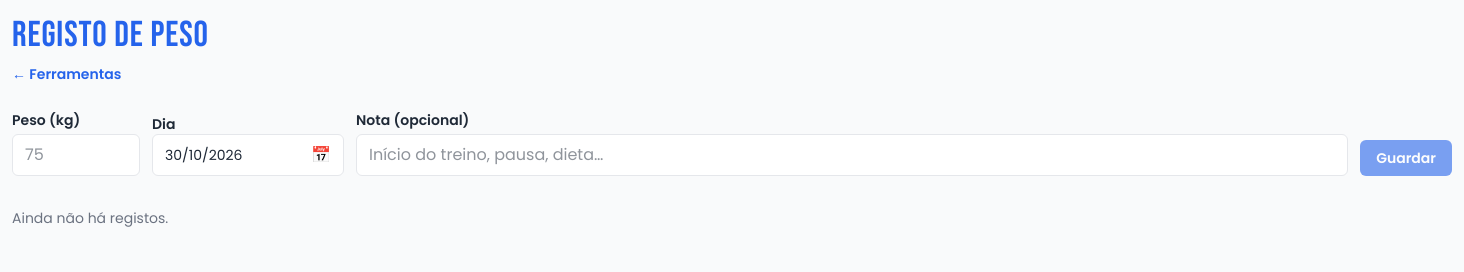
Test: WeightLog › refuses an implausible weight
Type "9" into the field labelled "Peso (kg)" at (76, 155), box [12, 134, 140, 176]
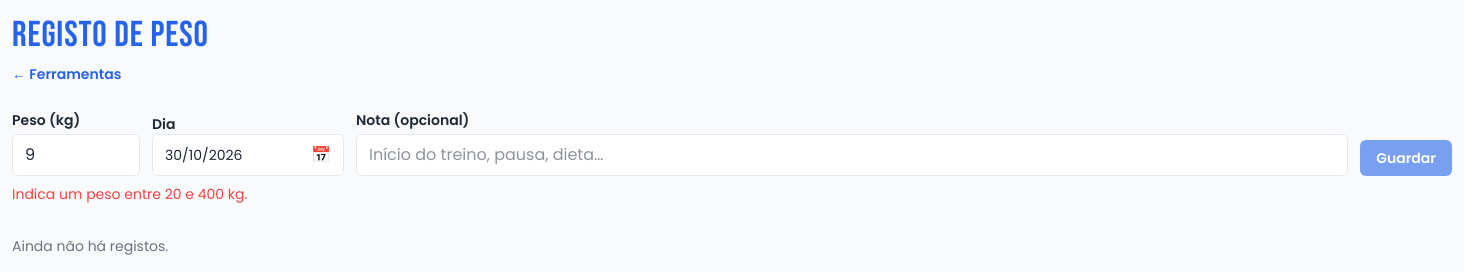
Check: the button "Guardar" is disabled, box [1360, 140, 1452, 176]
Check: the text "Indica um peso entre 20 e 400 kg." is shown, box [12, 184, 247, 204]
